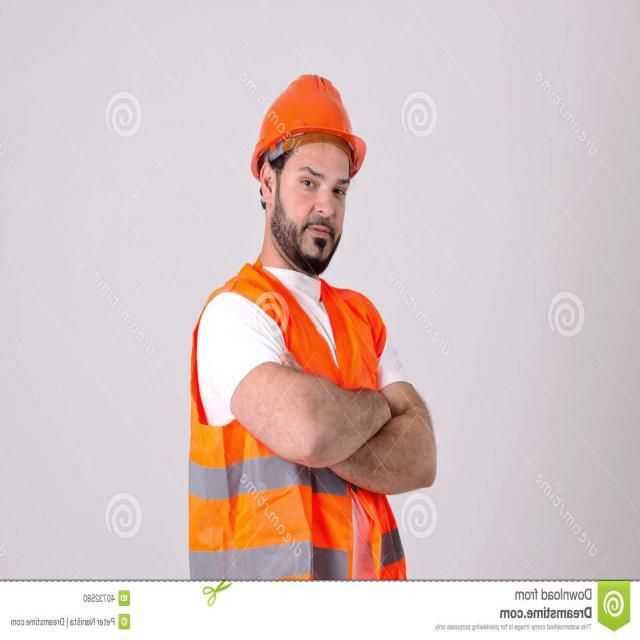safetyhelmet: (238, 74, 378, 238)
